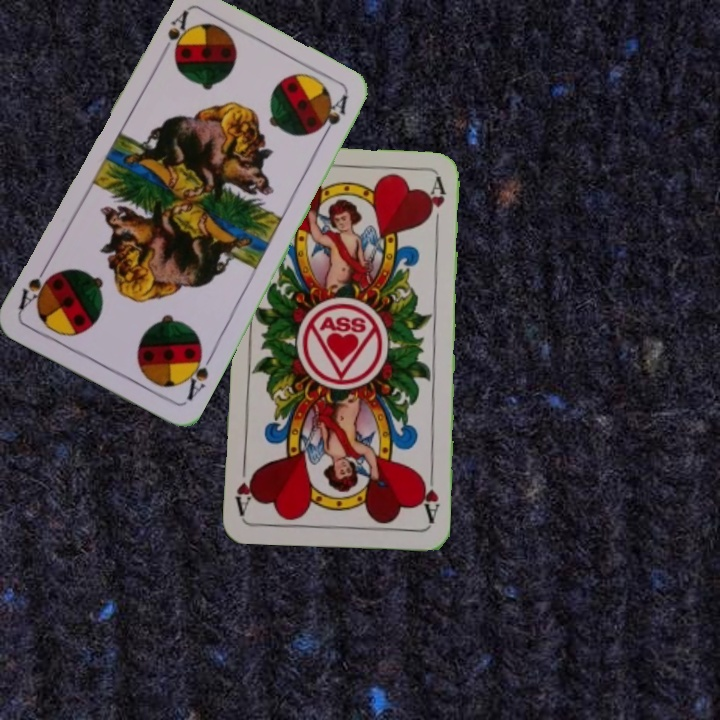HA: (416, 466, 442, 526)
SA: (178, 345, 215, 403), (155, 6, 192, 62)
